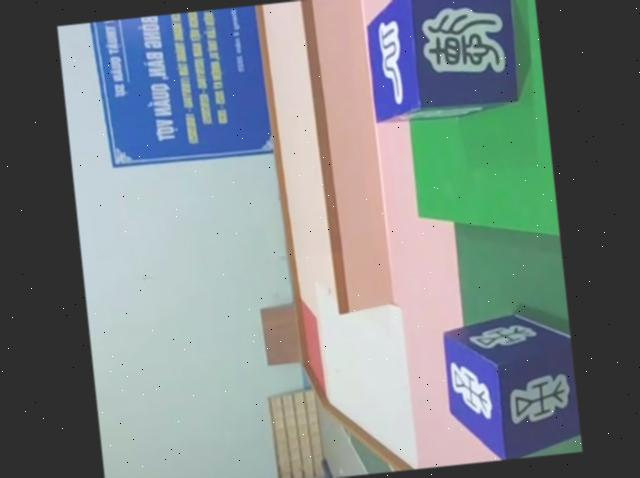R2 Fake Blue: (359, 0, 525, 127)
R2 Real Blue: (442, 309, 583, 465)
